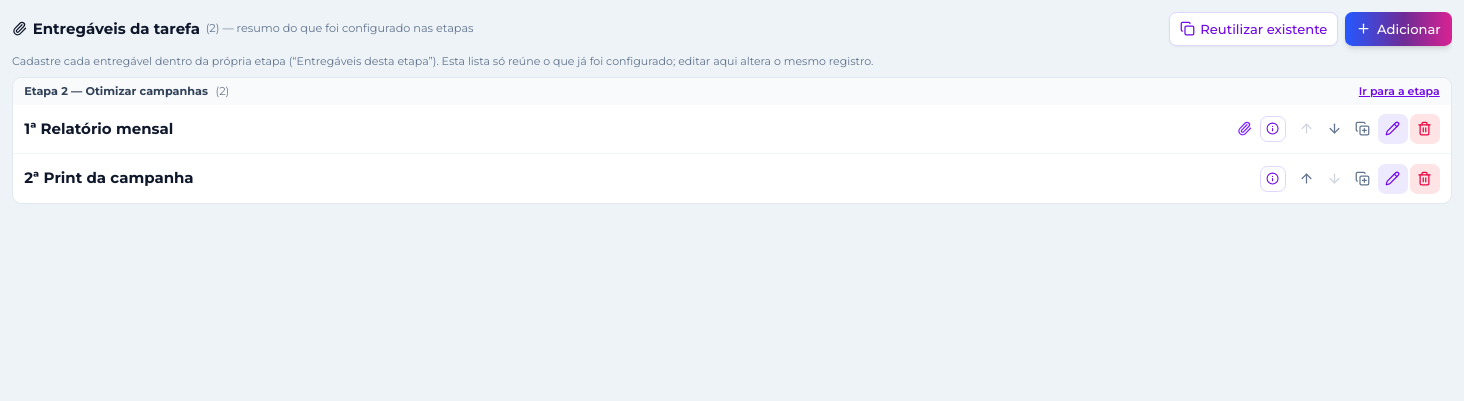
Scenario: Entregáveis da tarefa · resumo derivado das etapas › sem abrir/fechar: o ícone de info mostra os detalhes (ID permanente, etapa, momento, recorrência, evidência, modelo)
Step 1. Focus the button named "Informações do entregável Relatório mensal" → (1273, 129), box [1260, 116, 1286, 142]
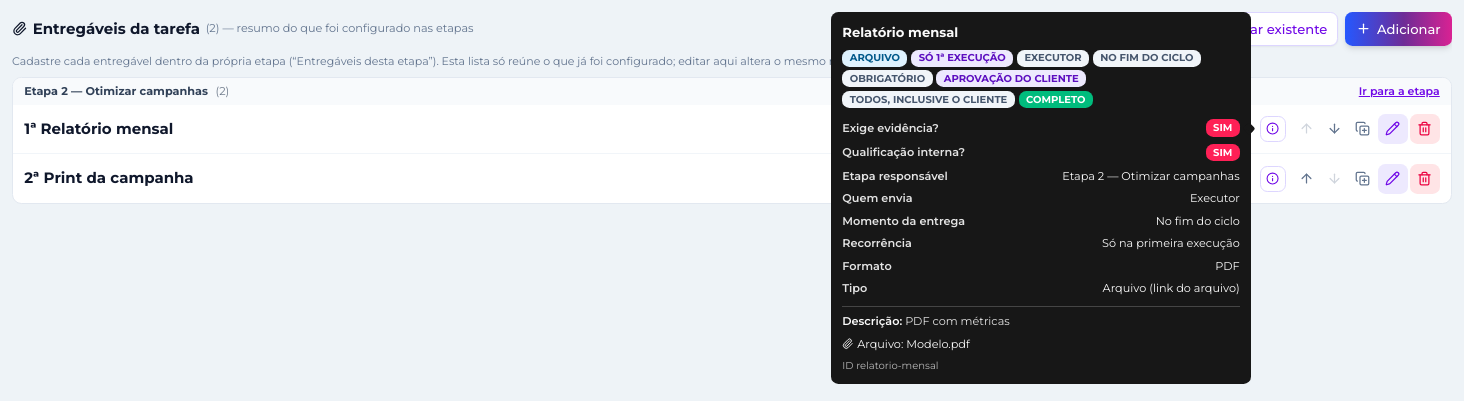
Expected: the text with test id "deliverable-id" reads "ID relatorio-mensal", [842, 359, 939, 372]
Expected: the tooltip with test id "deliverable-info" shows "Etapa 2 — Otimizar campanhas", [1062, 169, 1240, 183]
Expected: the tooltip with test id "deliverable-info" shows "No fim do ciclo", [1100, 51, 1193, 64]
